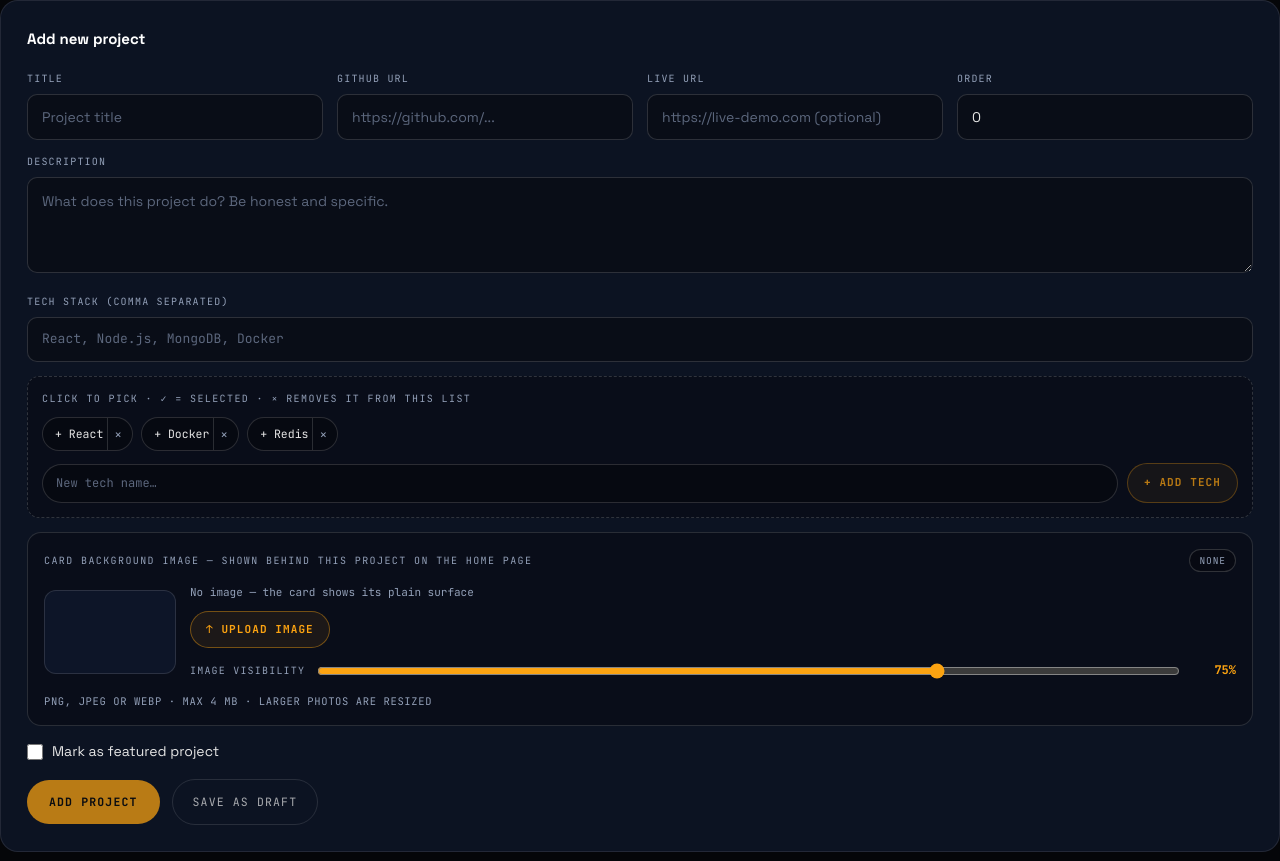
Test: creating — ADD PROJECT and SAVE AS DRAFT › SAVE AS DRAFT with no title is refused, sends nothing, and marks the title
Type "words" into the text box labelled "Description" at [640, 225], box top-left (27, 177), bottom-right (1253, 273)
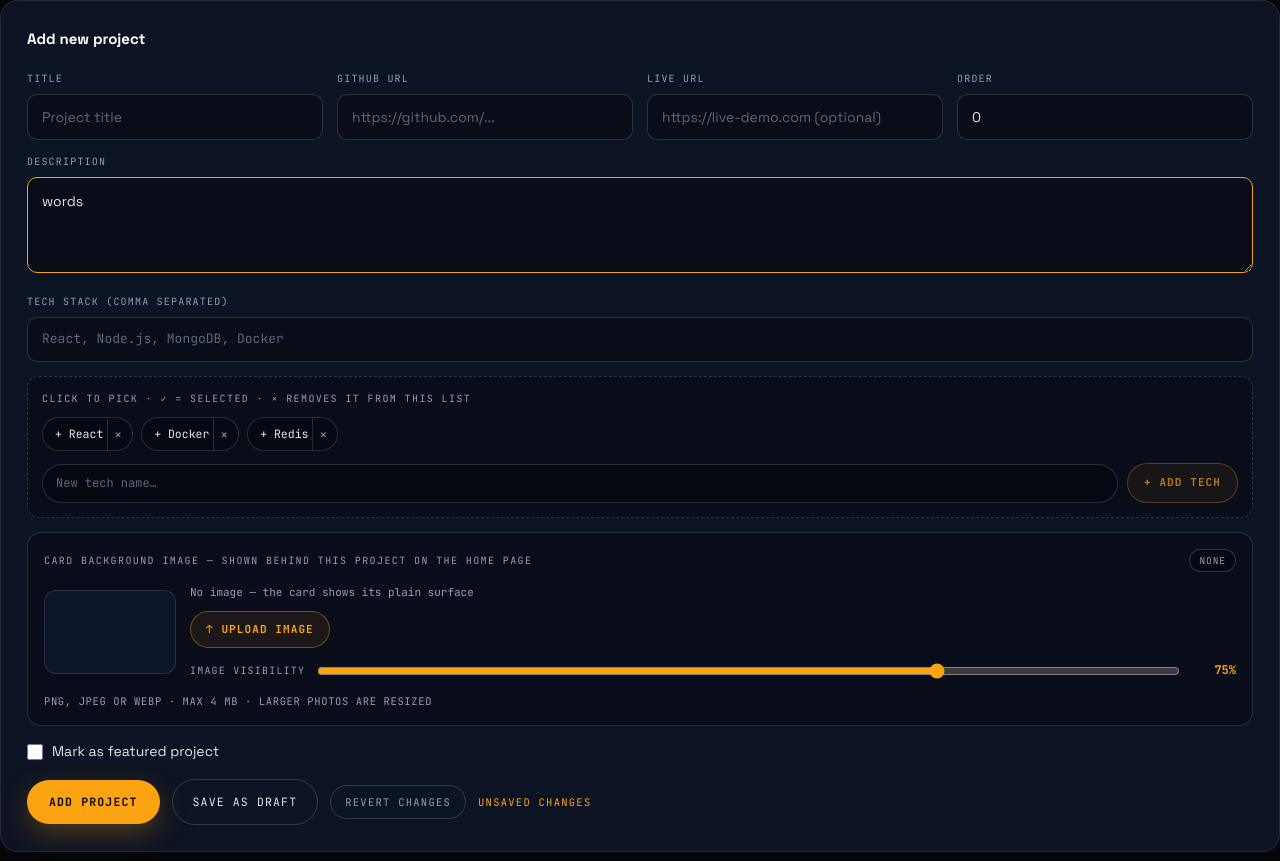
Click the button "SAVE AS DRAFT" at [245, 802], box top-left (172, 779), bottom-right (318, 825)
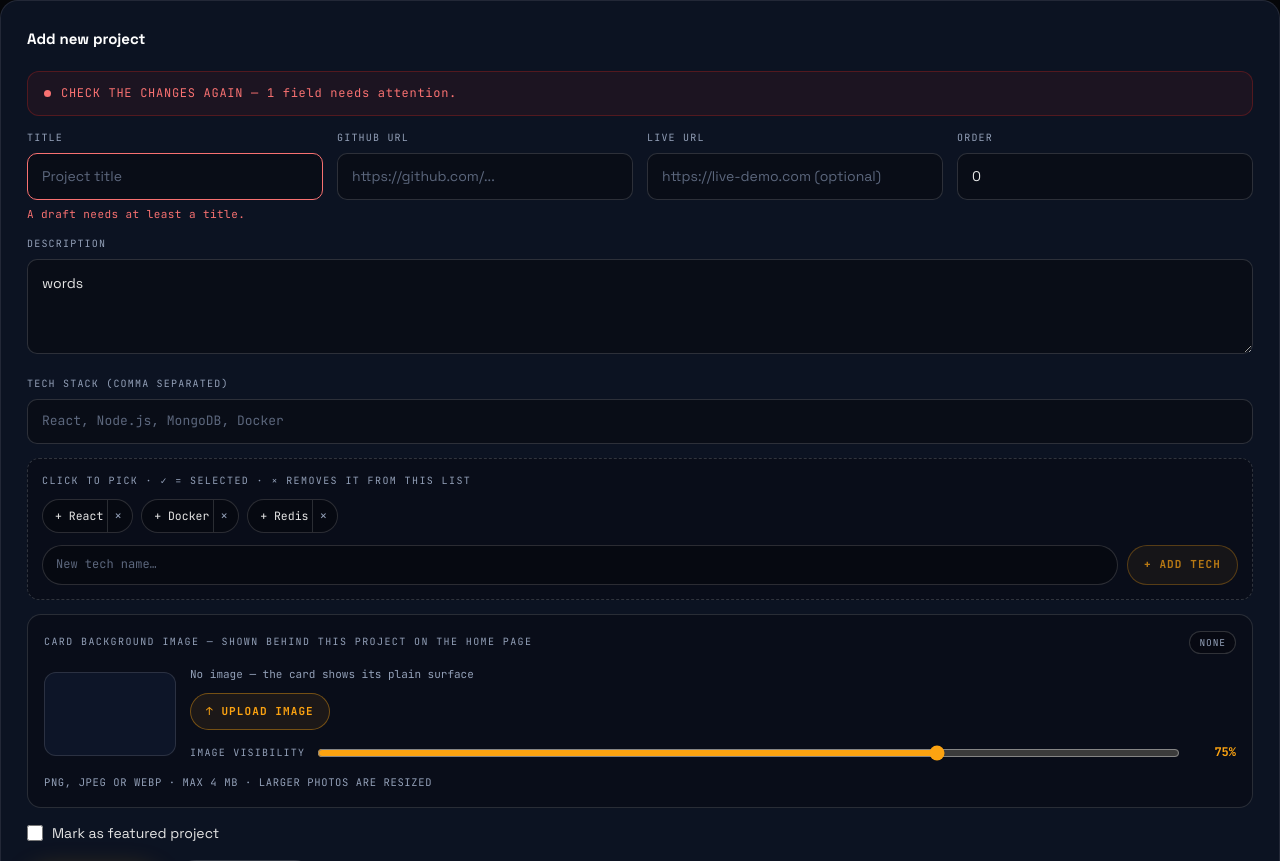
expect the text "CHECK THE CHANGES AGAIN — 1 field needs attention." is shown: met, box top-left (61, 84), bottom-right (457, 103)
